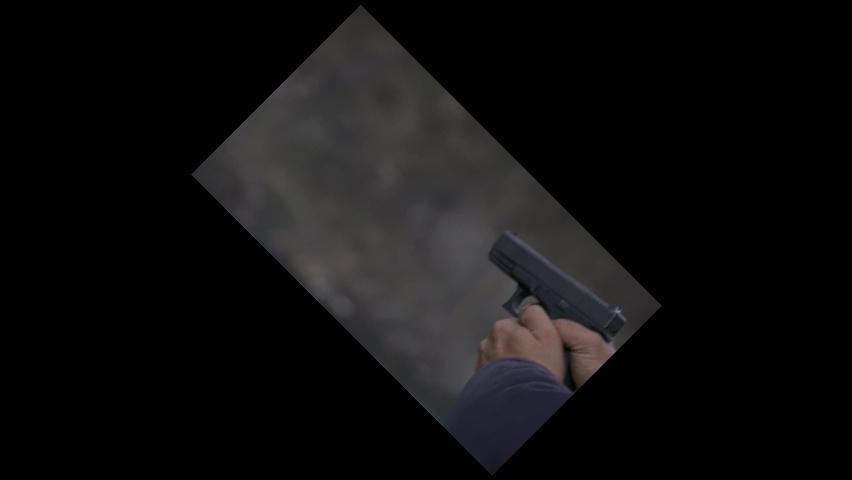weapon: (487, 228, 626, 346)
